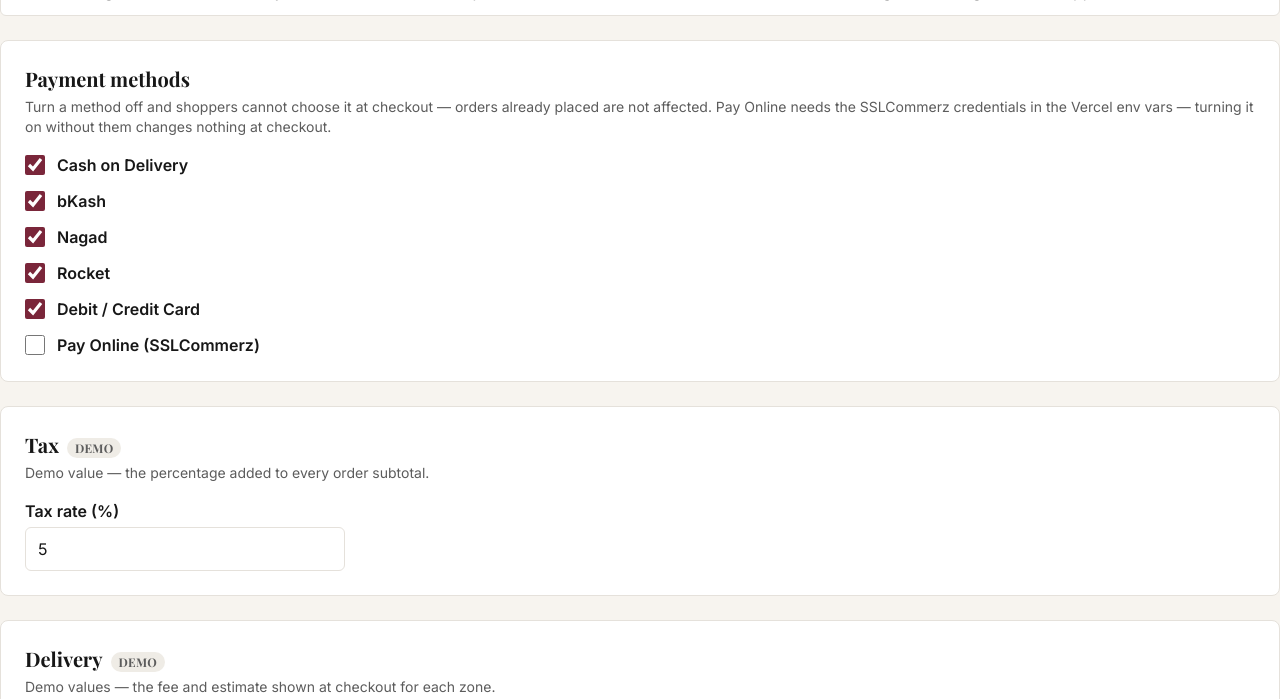
SettingsForm › lists what changed after a successful save
Replace the text in the number field labelled "Tax rate (%)" with "10" at (185, 549), box [25,527,345,571]
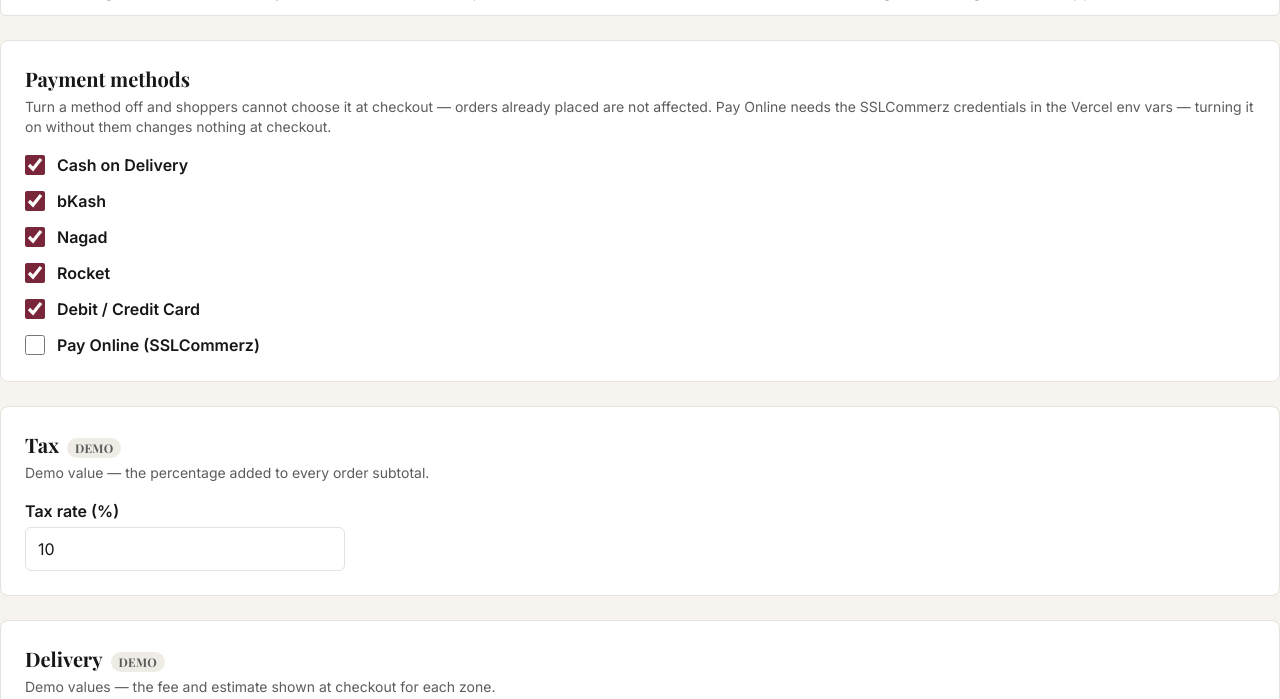
Click the checkbox labelled "Rocket" at (35, 273), box [25,263,45,283]
(page scrolled)
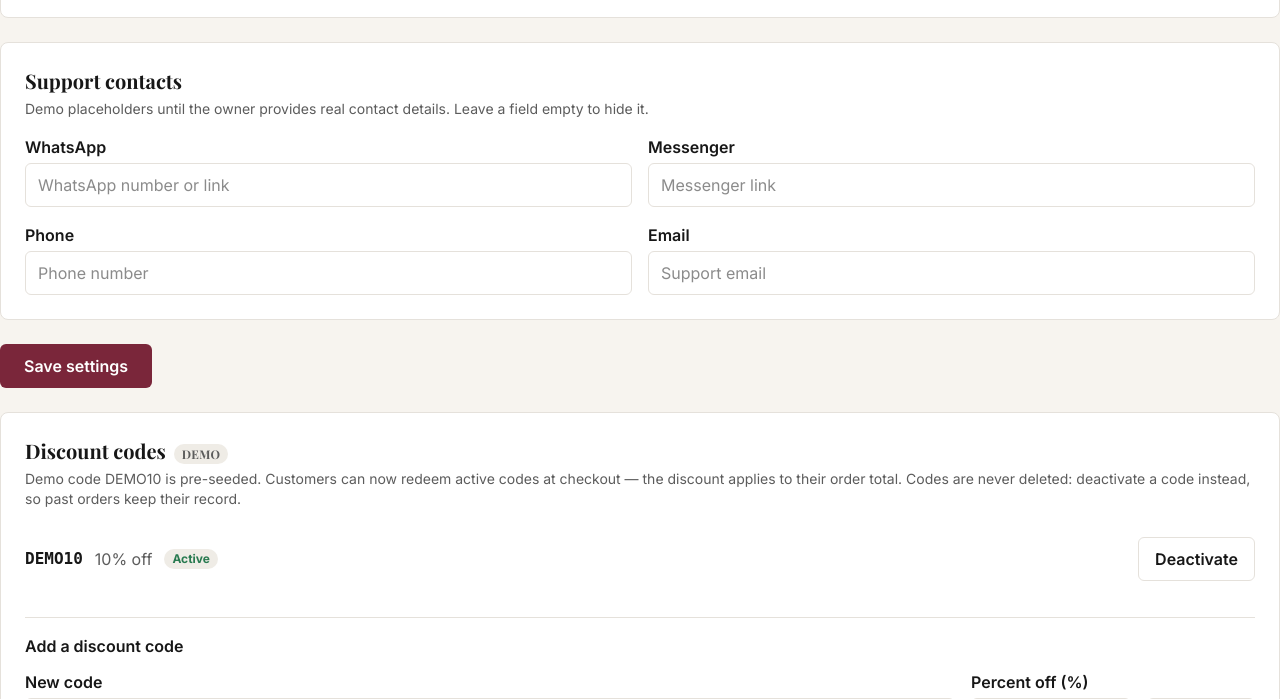
Click the button "Save settings" at (76, 366), box [0,344,152,388]
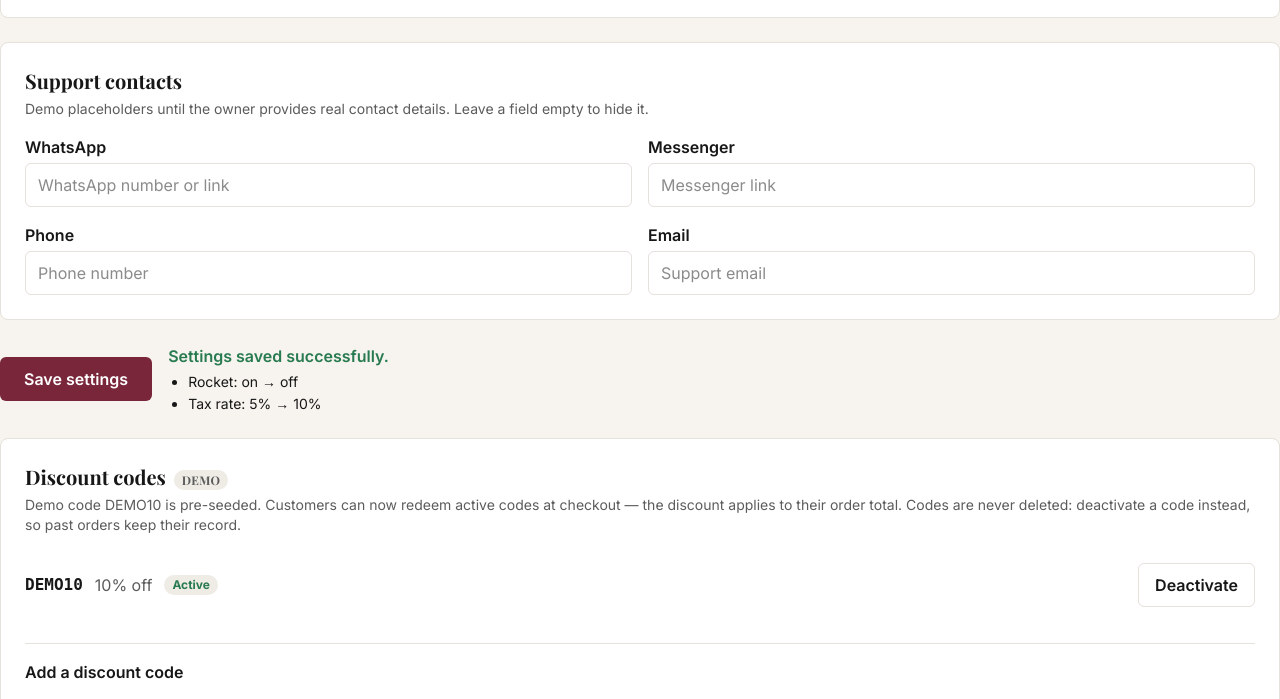
Check: the text "Settings saved successfully." is shown, box [168,344,389,368]
Check: the list item "Tax rate: 5% → 10%" is shown, box [188,395,322,412]
Check: the list item "Rocket: on → off" is shown, box [188,373,298,390]
